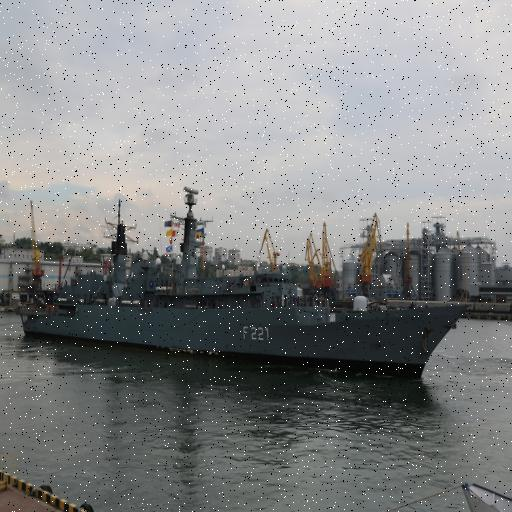Fragata: (19, 182, 477, 392)
